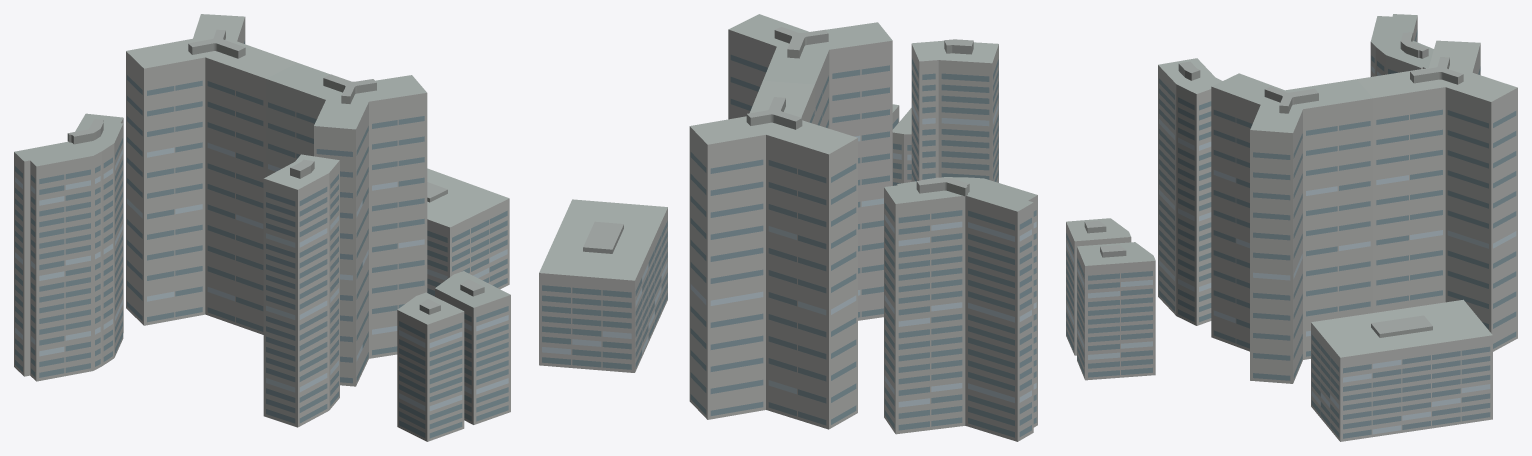
Rendered from apt-a13770610.glb.
The picture shows the model from 3 angles, left to right: view 1: azimuth 30°, elevation 25°; view 2: azimuth 150°, elevation 25°; view 3: azimuth 270°, elevation 25°; orthographic projection. The views are drawn at different scales.
Parts seen in each view (by area): view 1: apt-a13770610; view 2: apt-a13770610; view 3: apt-a13770610.
Boxes of the visible parts, x1,y1,x2,y2 form: apt-a13770610: [14, 14, 510, 441]; apt-a13770610: [539, 14, 1037, 441]; apt-a13770610: [1066, 14, 1517, 441].
Size of the model in its own units: 148 by 82 by 130.
